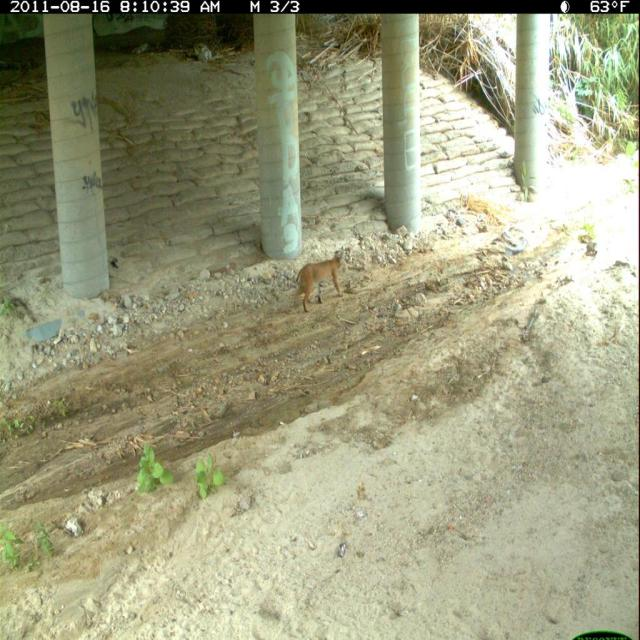bobcat: (290, 246, 351, 318)
